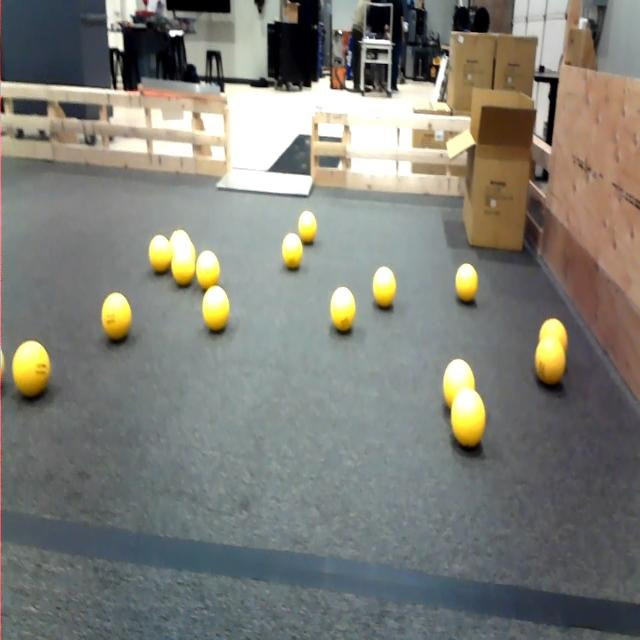fuel: (12, 341, 50, 398), (451, 388, 485, 447), (443, 359, 474, 407), (101, 293, 131, 341), (535, 337, 565, 385), (203, 286, 229, 331), (330, 288, 355, 332), (171, 243, 195, 286), (373, 266, 396, 308), (196, 250, 219, 290), (539, 319, 567, 351), (456, 263, 478, 303), (149, 235, 172, 273), (170, 230, 196, 261), (282, 233, 302, 269), (298, 210, 316, 244), (170, 229, 190, 250), (0, 350, 4, 383)
